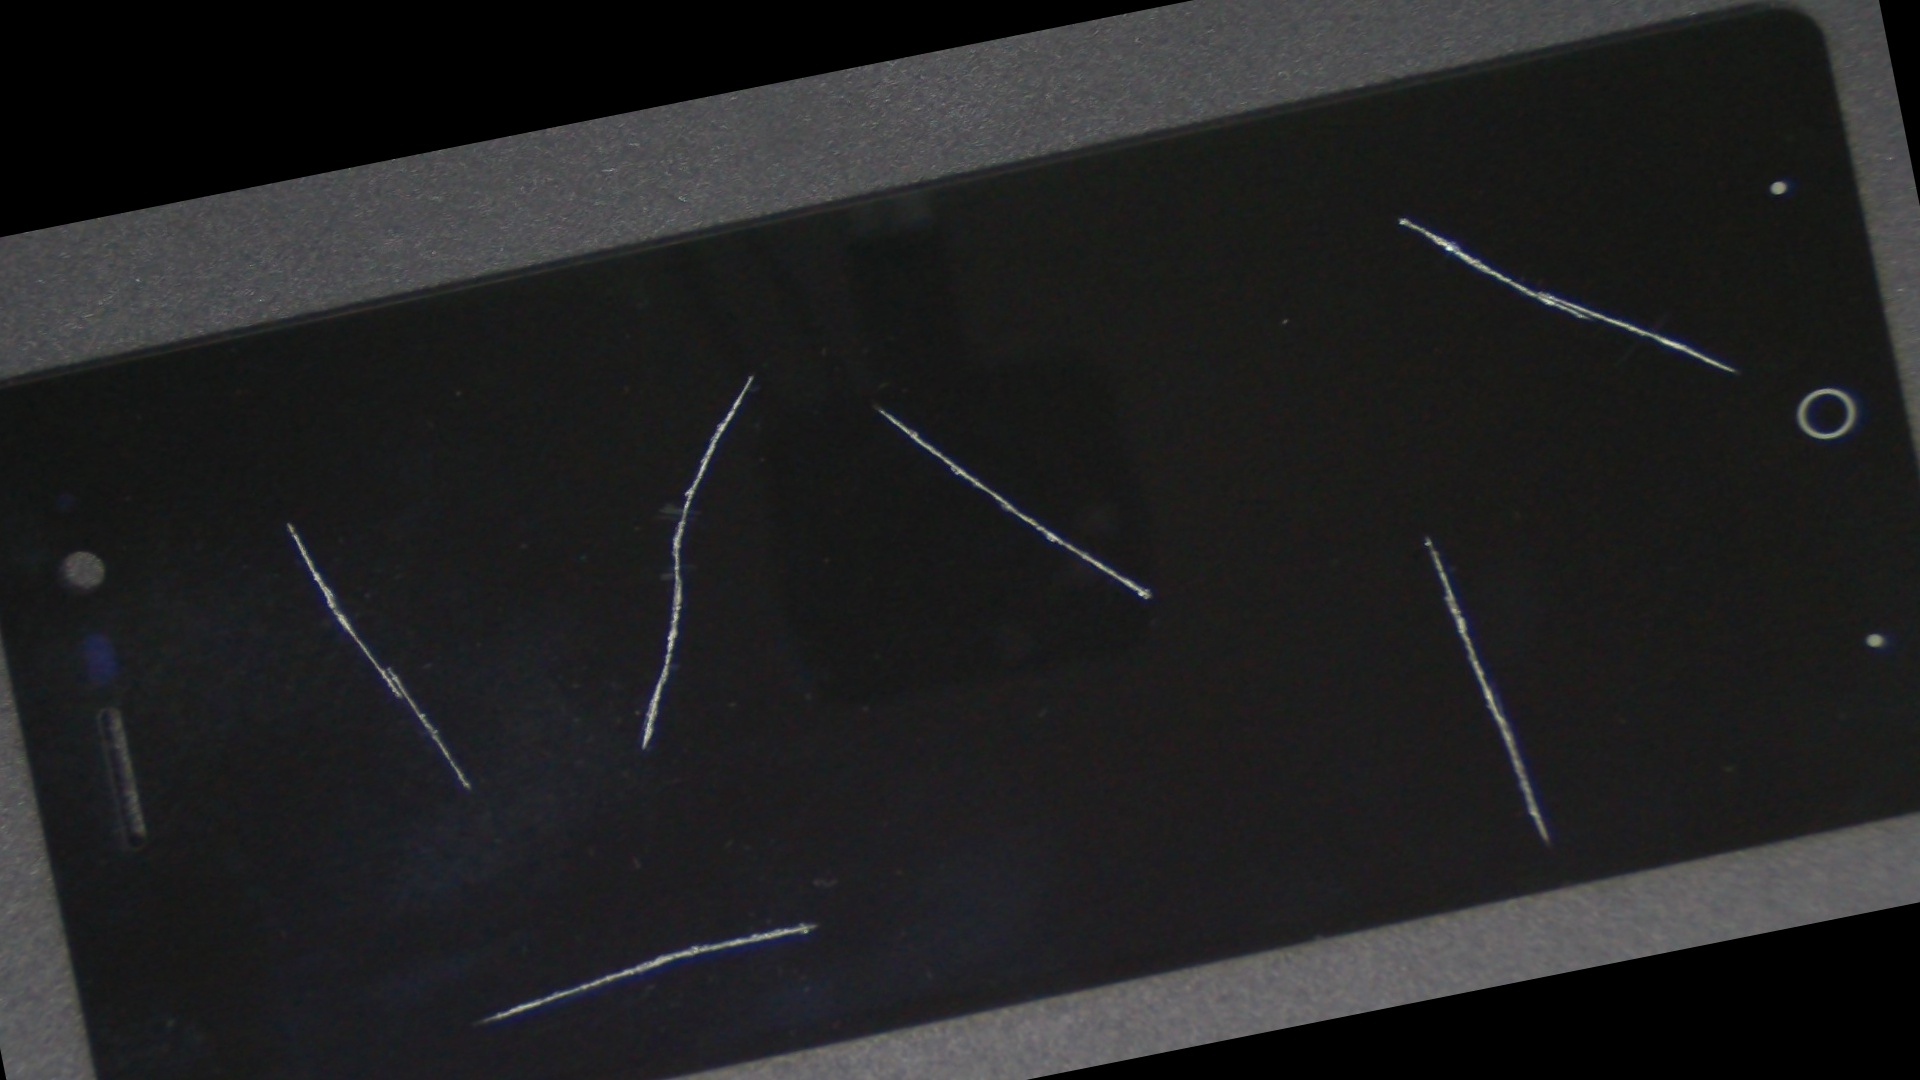oil: (636, 148, 1920, 961), (622, 0, 1920, 491), (313, 443, 1203, 1080), (359, 145, 1386, 665), (295, 152, 1199, 600), (66, 319, 508, 724)
